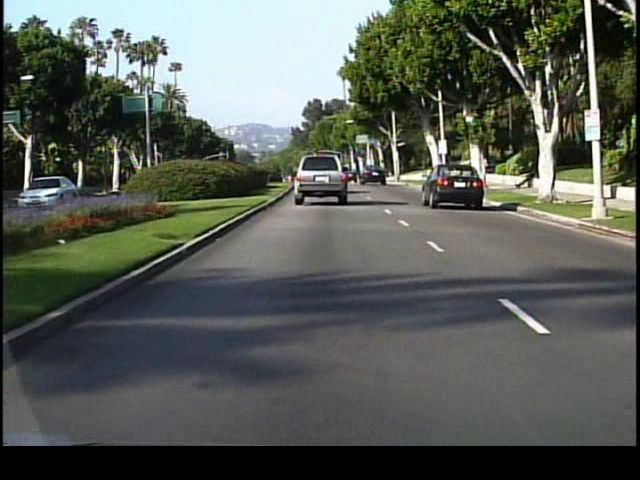person: (515, 158, 537, 194)
